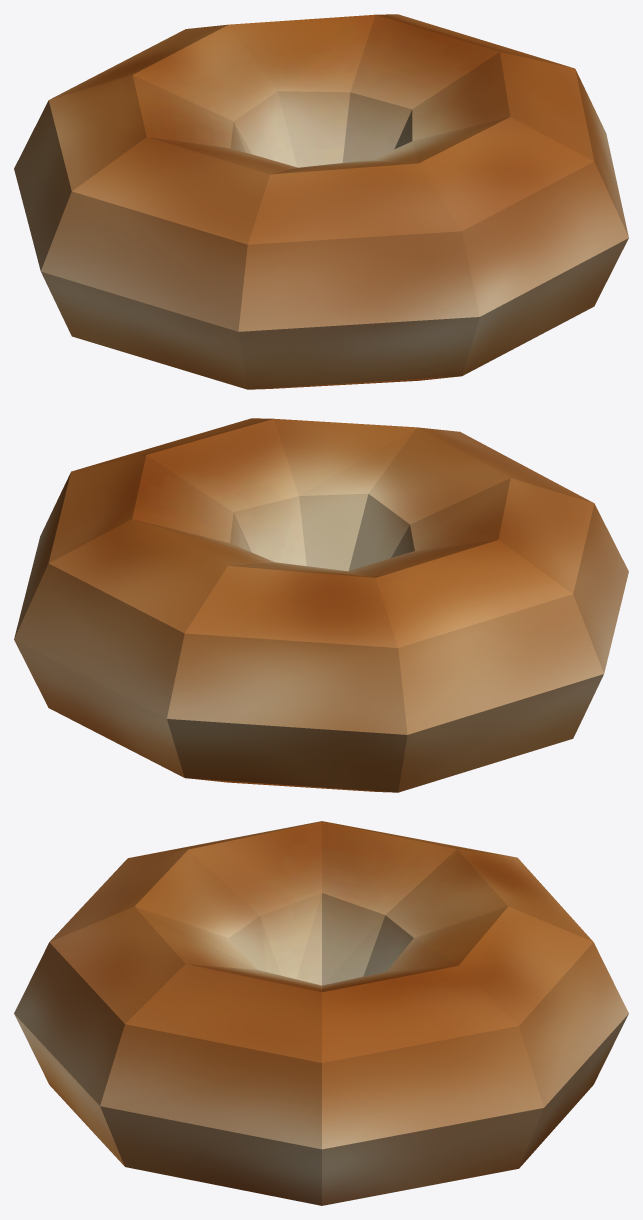
The model's file is bagel.obj.
3 renders of one model, top to bottom at view 1: azimuth 30°, elevation 25°; view 2: azimuth 150°, elevation 25°; view 3: azimuth 270°, elevation 25°, orthographic.
Bounding box in the file's own units: 3.2 × 1.18 × 3.06.
1 material, 1 textured.
